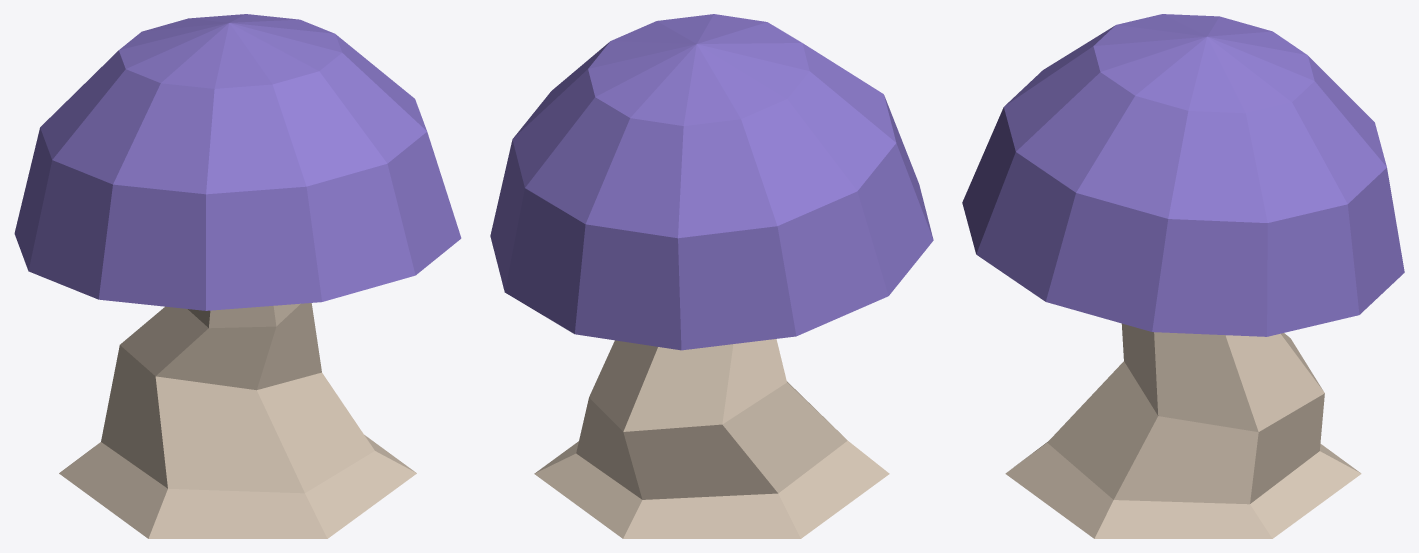
Rendered from mushroom2.fbx.
3 views of the same model, side by side, from view 1: azimuth 30°, elevation 25°; view 2: azimuth 150°, elevation 25°; view 3: azimuth 270°, elevation 25° (orthographic).
Visible parts, largest first — view 1: Sphere; view 2: Sphere; view 3: Sphere.
Part boxes in pixels (bbox=[...]): Sphere: bbox=[14, 14, 461, 538]; Sphere: bbox=[490, 14, 933, 538]; Sphere: bbox=[962, 14, 1404, 538].
Size of the model in its own units: 21.61 by 23.5 by 21.49.
